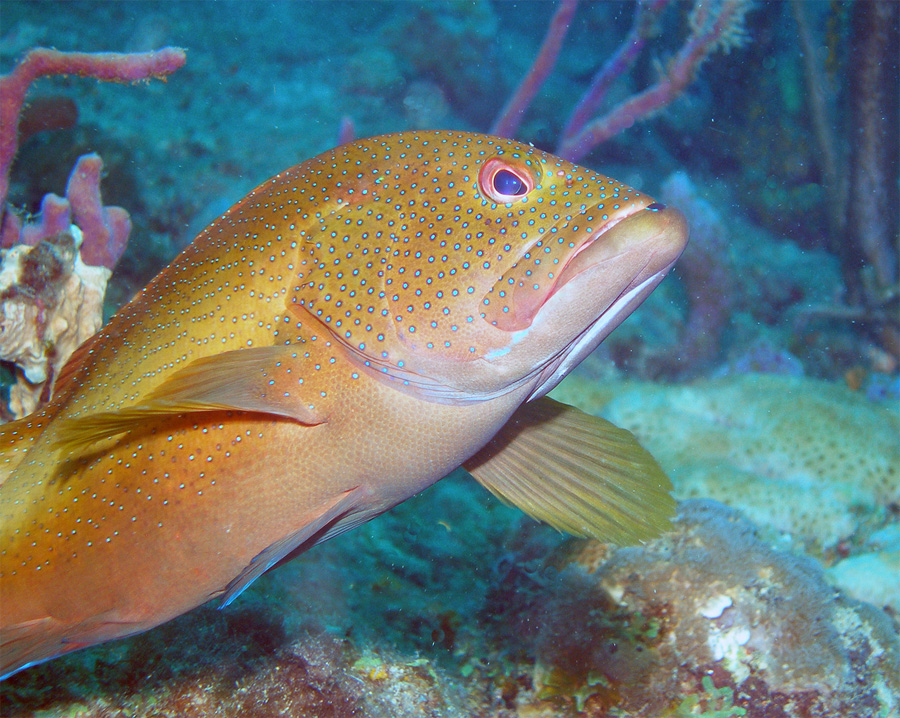Cephalopholis_fulvaw: (1, 111, 698, 678)
